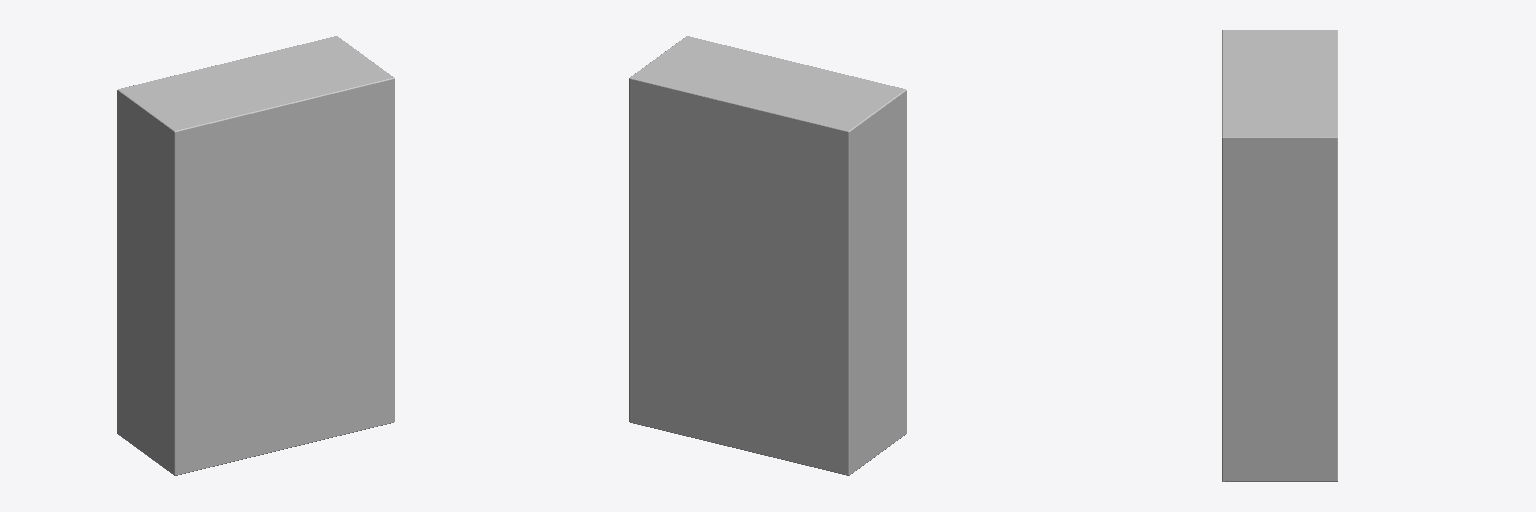
File: sCube6.obj
3 views of the same model, side by side, from view 1: azimuth 30°, elevation 25°; view 2: azimuth 150°, elevation 25°; view 3: azimuth 270°, elevation 25° (orthographic).
Parts seen in each view (by area): view 1: OutsideFacade_35; view 2: OutsideFacade_35; view 3: OutsideFacade_35.
Boxes of the visible parts, <box> form: OutsideFacade_35: <box>117,36,394,475</box>; OutsideFacade_35: <box>629,36,906,475</box>; OutsideFacade_35: <box>1222,30,1337,481</box>.
Bounding box in the file's own units: 20.2 × 30.2 × 9.2.